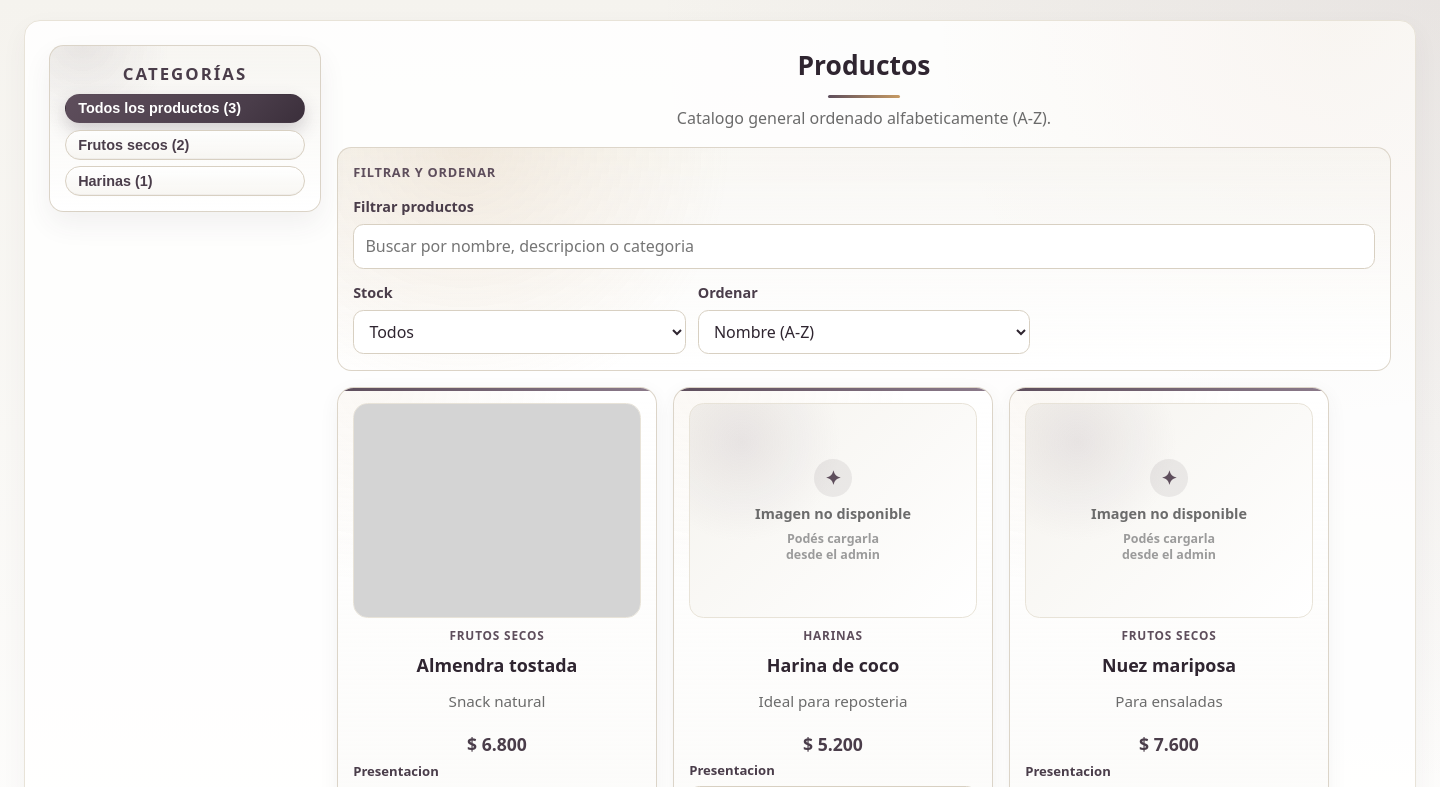
Test: ProductsPage › filters from all products with sidebar categories and restores the full list
Expected: the heading "Almendra tostada" is shown, [417,653,577,677]
Click the button "Harinas (1)": x=185, y=181 [65,166,305,196]
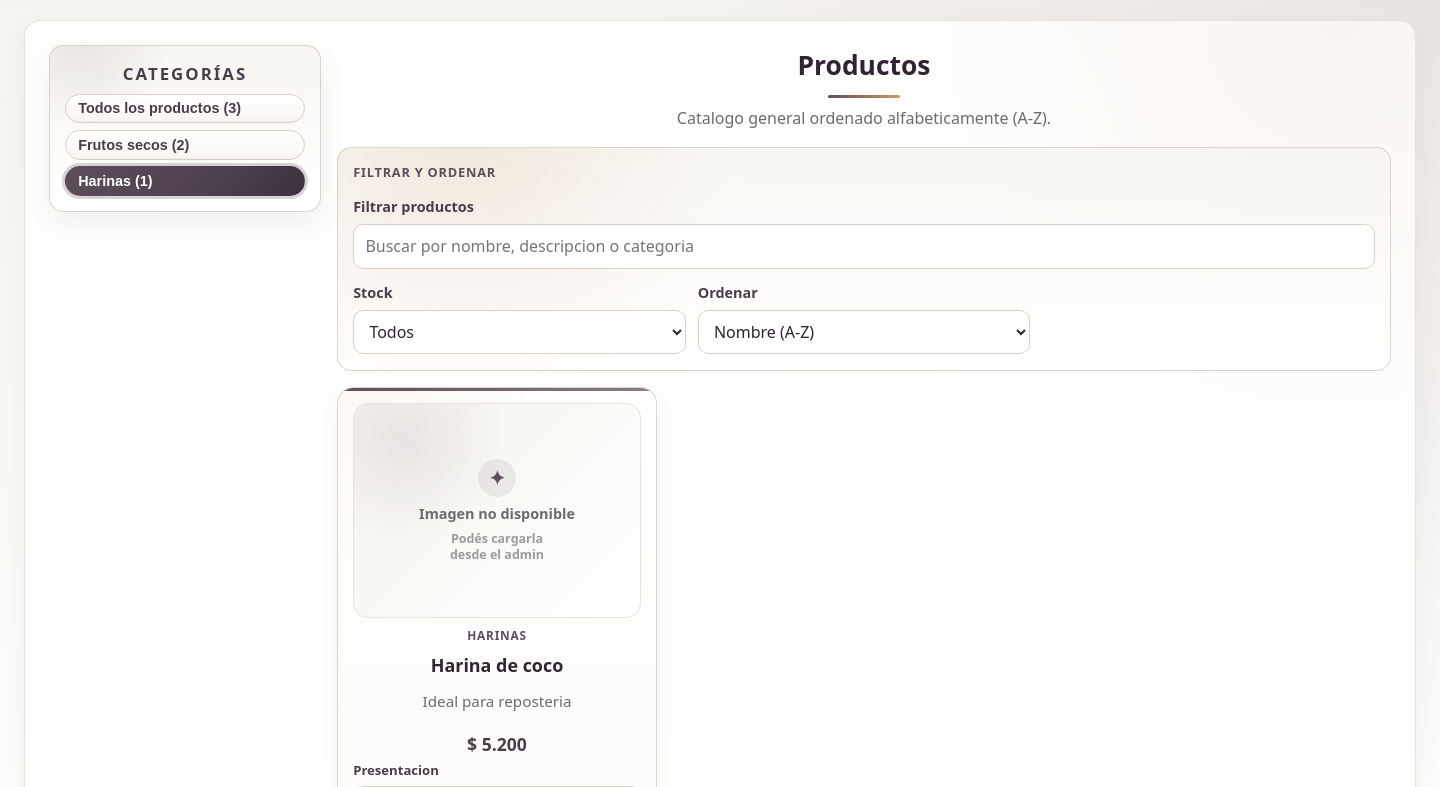
Expected: the heading "Harina de coco" is shown, [431,653,563,677]
Expected: the heading "Almendra tostada" is gone
Click the button "Todos los productos (3)": x=185, y=109 [65,94,305,123]
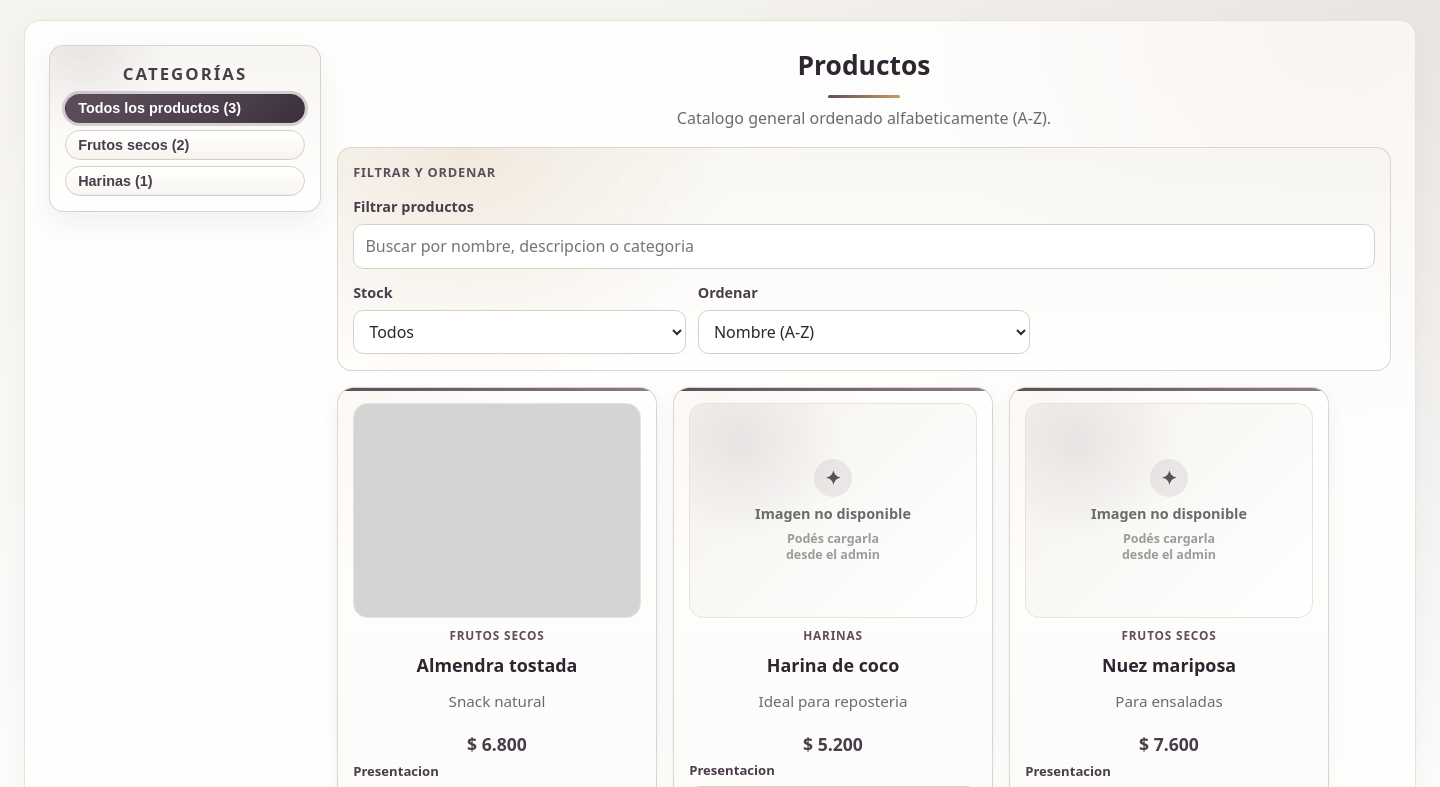
Expected: the heading "Almendra tostada" is shown, [417,653,577,677]
Expected: the heading "Nuez mariposa" is shown, [1102,653,1236,677]
